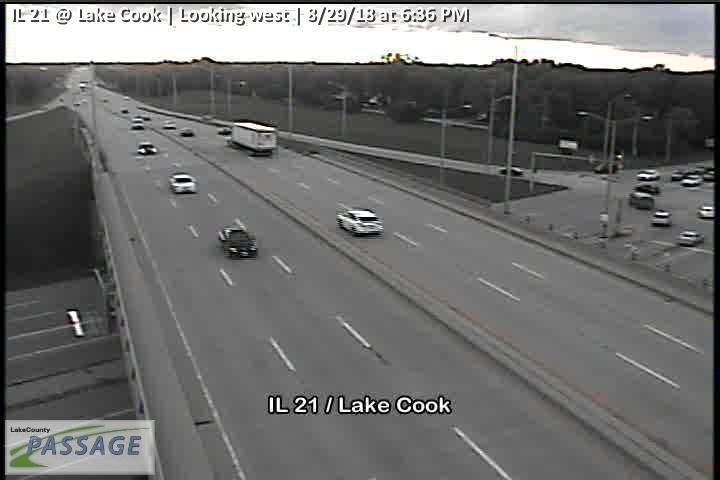SUV: (218, 225, 258, 259), (336, 209, 383, 236)
Sedan: (168, 173, 196, 193), (137, 142, 157, 155)
Truck: (230, 121, 278, 157)
